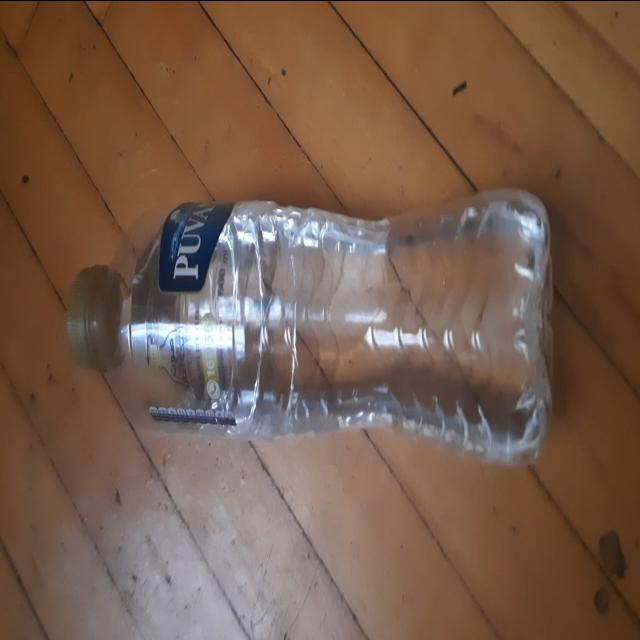Plastic: (68, 186, 558, 467)
